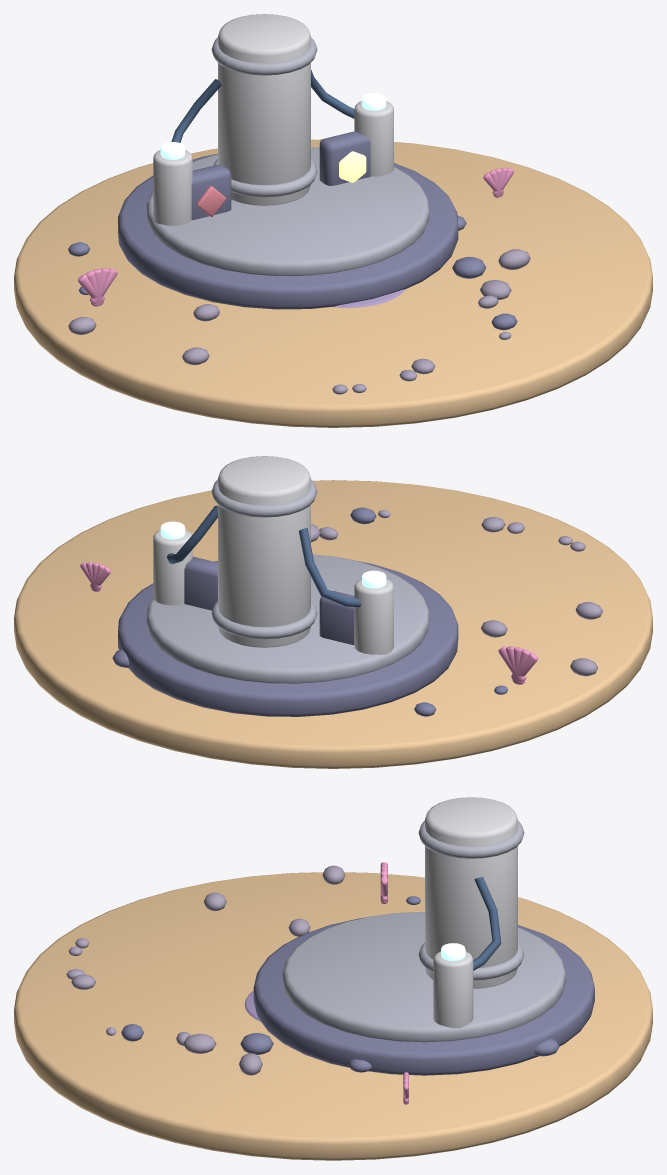
File: power_station.glb
3 renders of one model, top to bottom at view 1: azimuth 30°, elevation 25°; view 2: azimuth 150°, elevation 25°; view 3: azimuth 270°, elevation 25°, orthographic.
Visible parts, largest first — view 1: Ground_Main, Station_Base_High, Station_Base_Low, Reactor_Column, Side_Tower_-3.2, Side_Tower_3.2, Gold_Socket_Housing, Red_Socket_Housing, Reactor_Ring_5.25, Reactor_Ring_1.55, Power_Cable_-3.2, Gold_Socket_Ring (+1 smaller); view 2: Ground_Main, Station_Base_Low, Reactor_Column, Station_Base_High, Side_Tower_-3.2, Side_Tower_3.2, Gold_Socket_Housing, Reactor_Ring_1.55, Red_Socket_Housing, Reactor_Ring_5.25, Power_Cable_-3.2, Power_Cable_3.2; view 3: Ground_Main, Station_Base_High, Station_Base_Low, Reactor_Column, Side_Tower_3.2, Reactor_Ring_5.25, Power_Cable_3.2, Reactor_Ring_1.55, Rock_14, Rock_08.
Part boxes in pixels (box(x1,y1,x2,y2)): Ground_Main: box(14, 139, 652, 427); Station_Base_High: box(146, 147, 429, 275); Station_Base_Low: box(118, 153, 458, 309); Reactor_Column: box(218, 14, 310, 205); Side_Tower_-3.2: box(153, 150, 192, 225); Side_Tower_3.2: box(354, 101, 393, 176); Gold_Socket_Housing: box(319, 131, 370, 185); Red_Socket_Housing: box(191, 164, 231, 220); Reactor_Ring_5.25: box(211, 37, 317, 75); Reactor_Ring_1.55: box(213, 159, 317, 197); Power_Cable_-3.2: box(171, 79, 221, 142); Gold_Socket_Ring: box(339, 151, 366, 182); Ground_Main: box(14, 480, 652, 768); Station_Base_Low: box(118, 558, 458, 716); Reactor_Column: box(218, 456, 310, 647); Station_Base_High: box(146, 554, 429, 683); Side_Tower_-3.2: box(354, 579, 393, 654); Side_Tower_3.2: box(153, 530, 192, 605); Gold_Socket_Housing: box(184, 556, 217, 610); Reactor_Ring_1.55: box(211, 601, 317, 639); Red_Socket_Housing: box(319, 591, 354, 645); Reactor_Ring_5.25: box(211, 479, 317, 517); Power_Cable_-3.2: box(298, 528, 360, 607); Power_Cable_3.2: box(166, 505, 217, 564); Ground_Main: box(14, 872, 652, 1160); Station_Base_High: box(282, 912, 565, 1042); Station_Base_Low: box(253, 917, 594, 1075); Reactor_Column: box(425, 797, 517, 988); Side_Tower_3.2: box(433, 951, 473, 1028); Reactor_Ring_5.25: box(418, 820, 524, 858); Power_Cable_3.2: box(473, 877, 501, 970); Reactor_Ring_1.55: box(418, 942, 524, 980); Rock_14: box(240, 1033, 273, 1054); Rock_08: box(183, 1033, 216, 1053).
Size of the model in its own units: 17.6 by 6.78 by 17.6.
